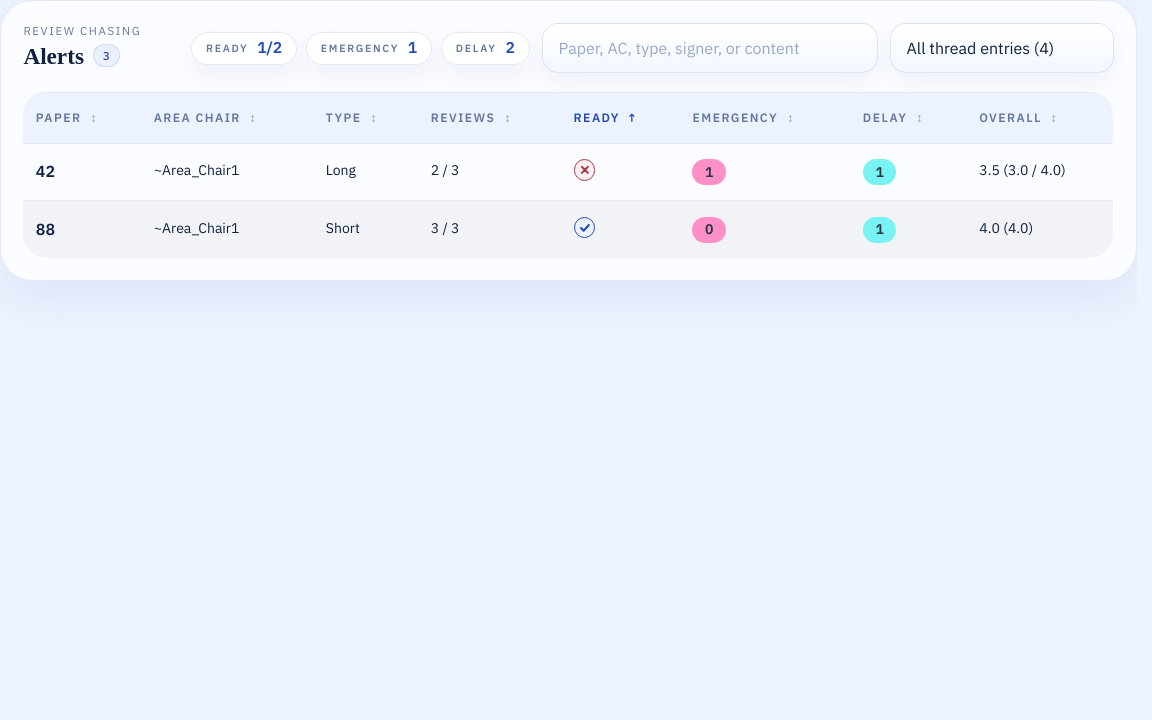
Scenario: AlertsPanel › filters table rows by alert type
The width and height of the screenshot is (1152, 720).
Select "Delay Notification (2)" in the dropdown named "Type" at (1002, 48), box top-left (890, 23), bottom-right (1114, 73)
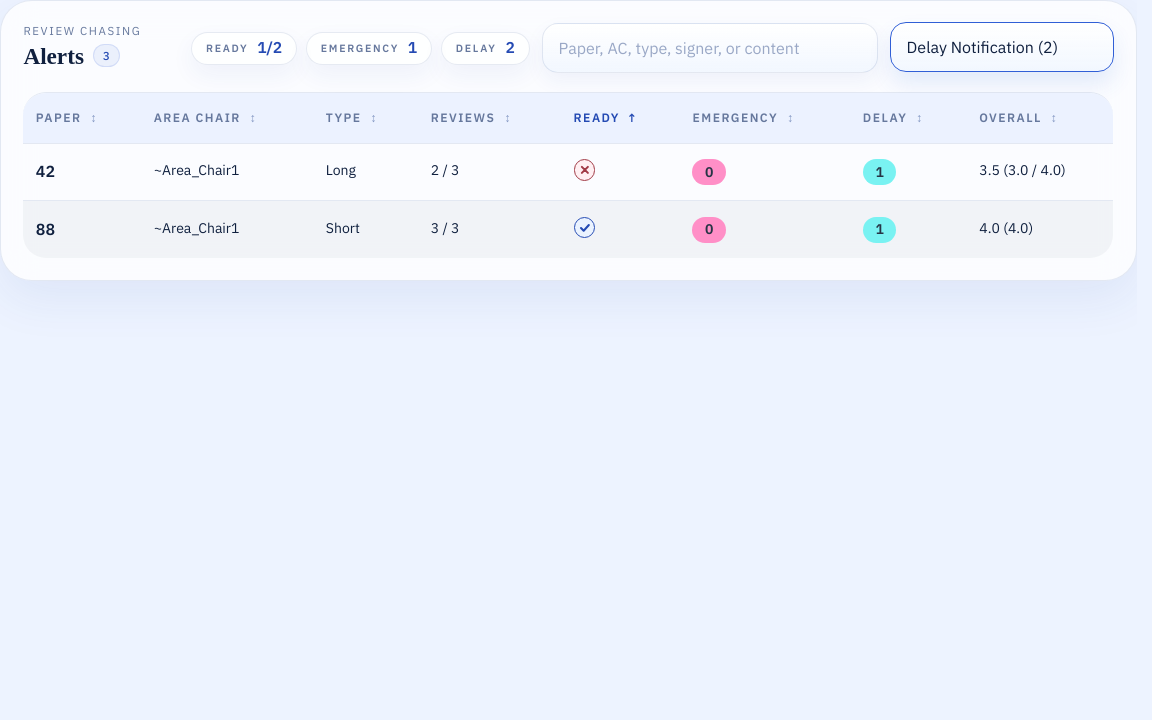
Expected: the text "1" in the row of "1/2" is shown, top-left (408, 37), bottom-right (417, 57)
Expected: the text "2" is shown, top-left (505, 40), bottom-right (514, 56)
Click the row named "42 ~area_chair1 long 2 / 3 ready: no 0 1 3.5 (3.0 / 4.0)" at (568, 172), box top-left (23, 143), bottom-right (1114, 201)
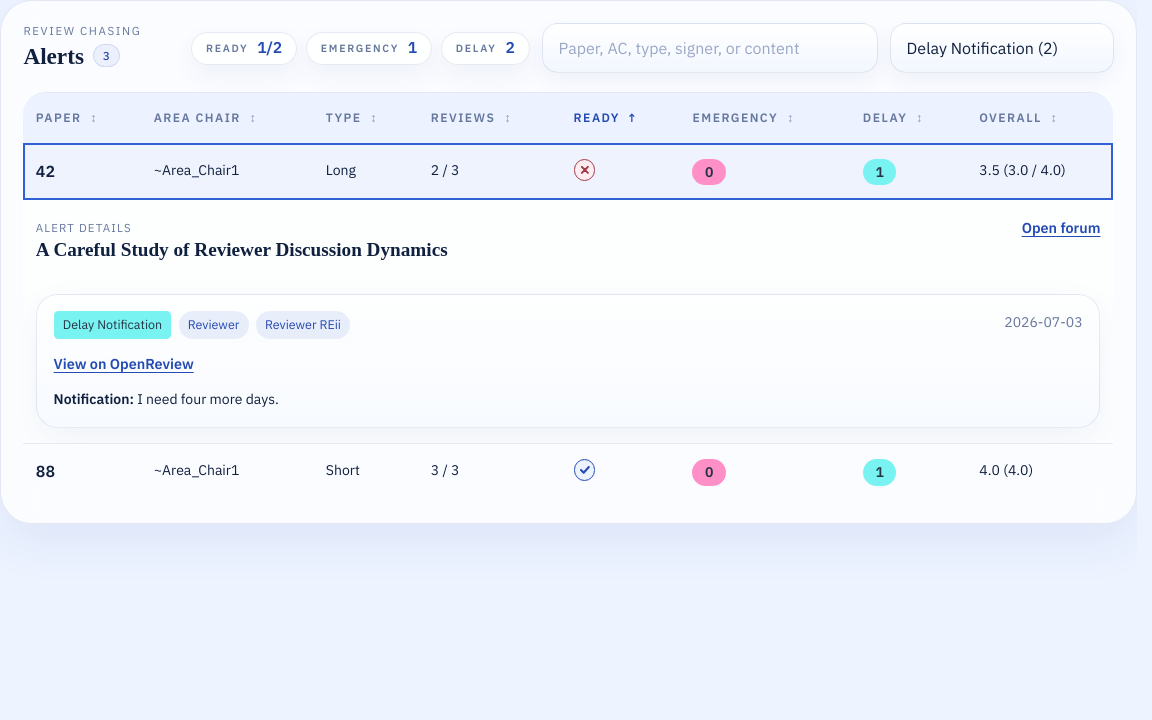
Expected: the text "Notification: I need four more days." is shown, top-left (54, 390), bottom-right (279, 408)
